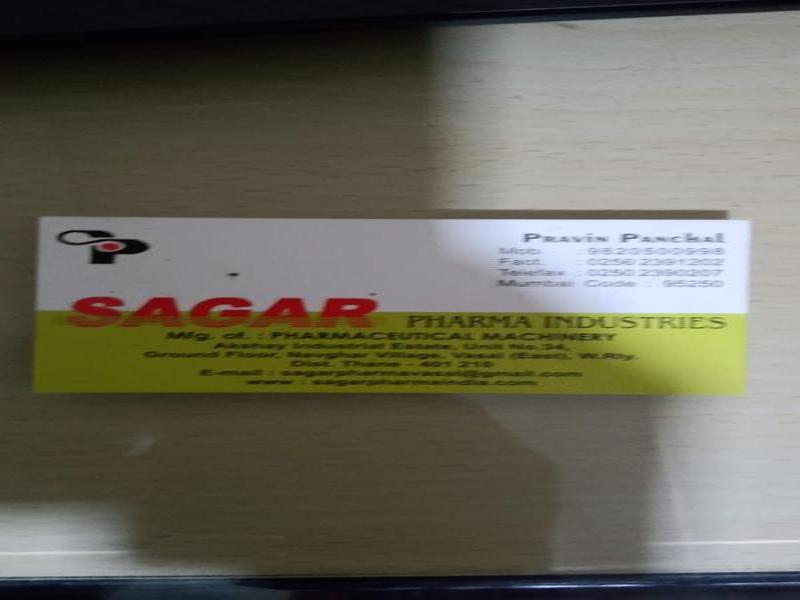card: (35, 214, 747, 396)
